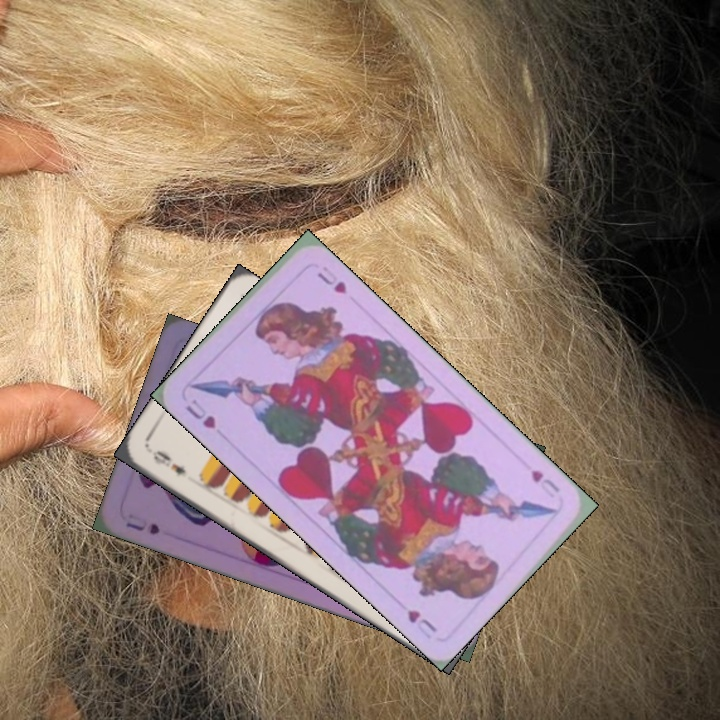E9: (148, 446, 189, 477)
HU: (181, 395, 219, 431), (526, 465, 562, 501)
SU: (122, 515, 163, 538)
